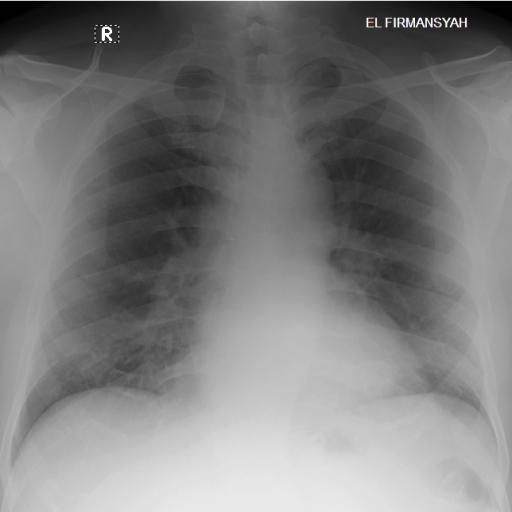kardiomegali: (10, 36, 504, 462)
